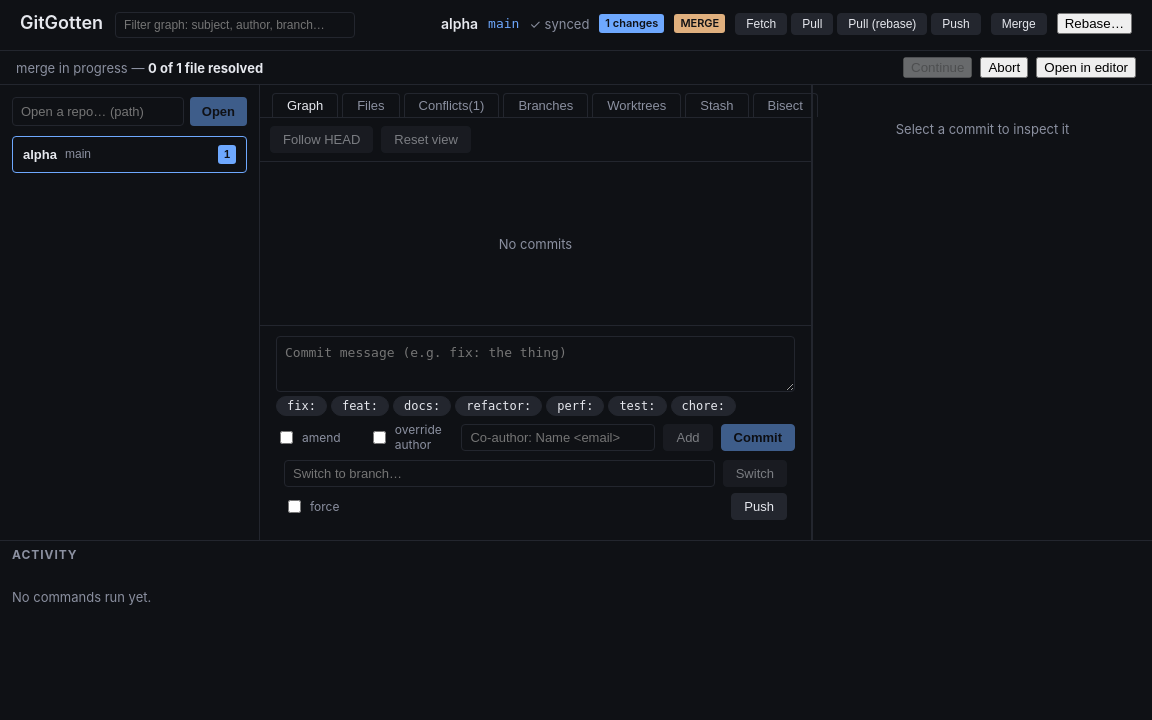
Test case: selecting a conflicted file renders its base/ours/theirs
The image size is (1152, 720).
Click the tab "Conflicts(1)" at point(452, 105), box [404, 93, 499, 117]
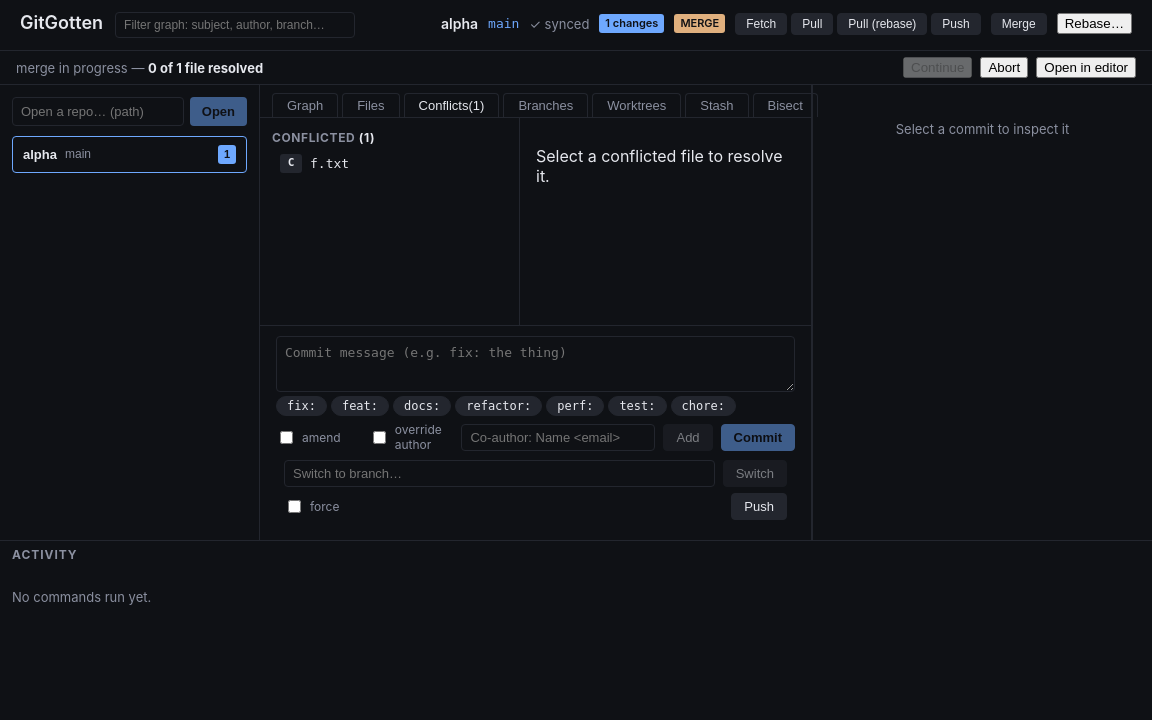
Click the text "f.txt" at point(330, 163), box [310, 156, 349, 171]
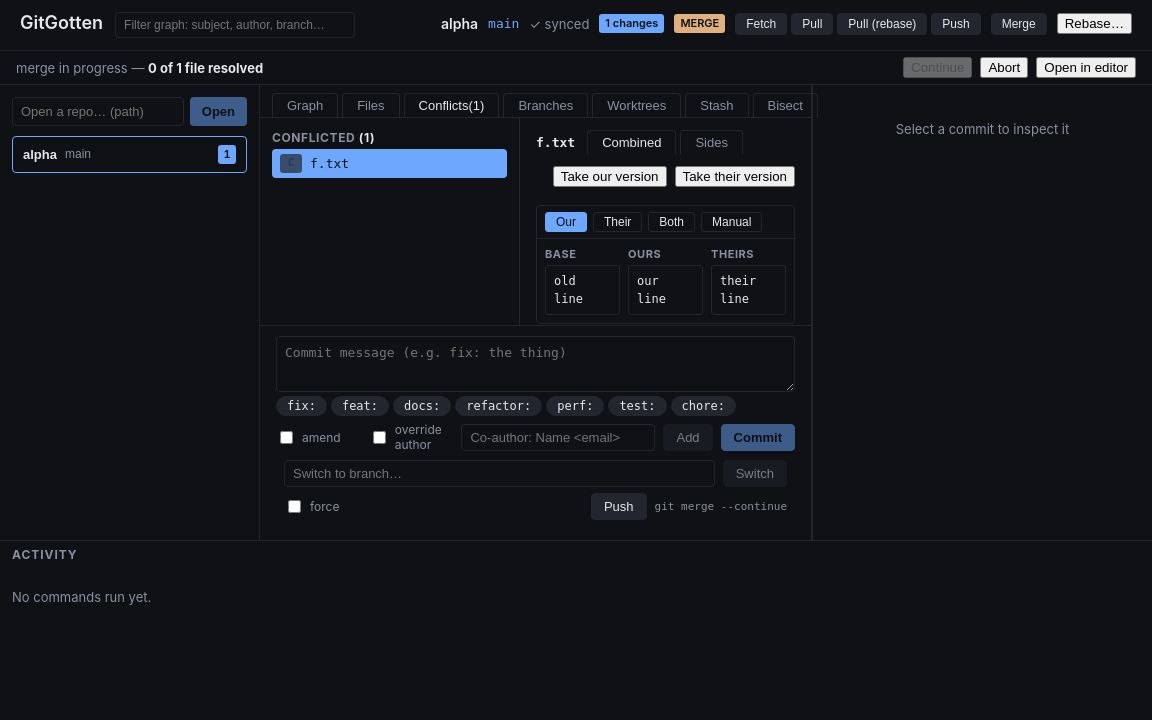
Check: the text "old line" is shown, box [545, 265, 620, 315]
Check: the text "our line" is shown, box [628, 265, 703, 315]
Check: the text "their line" is shown, box [711, 265, 786, 315]
